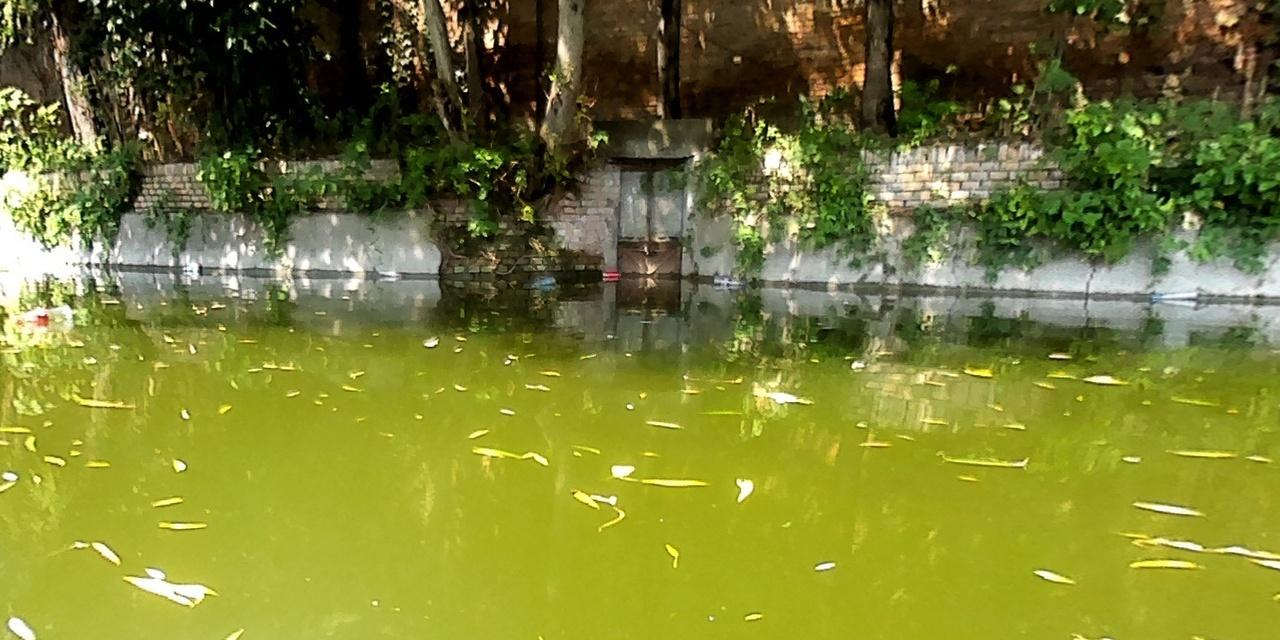bottle: (9, 303, 70, 327), (709, 274, 749, 289), (529, 274, 556, 290), (598, 268, 620, 282)
